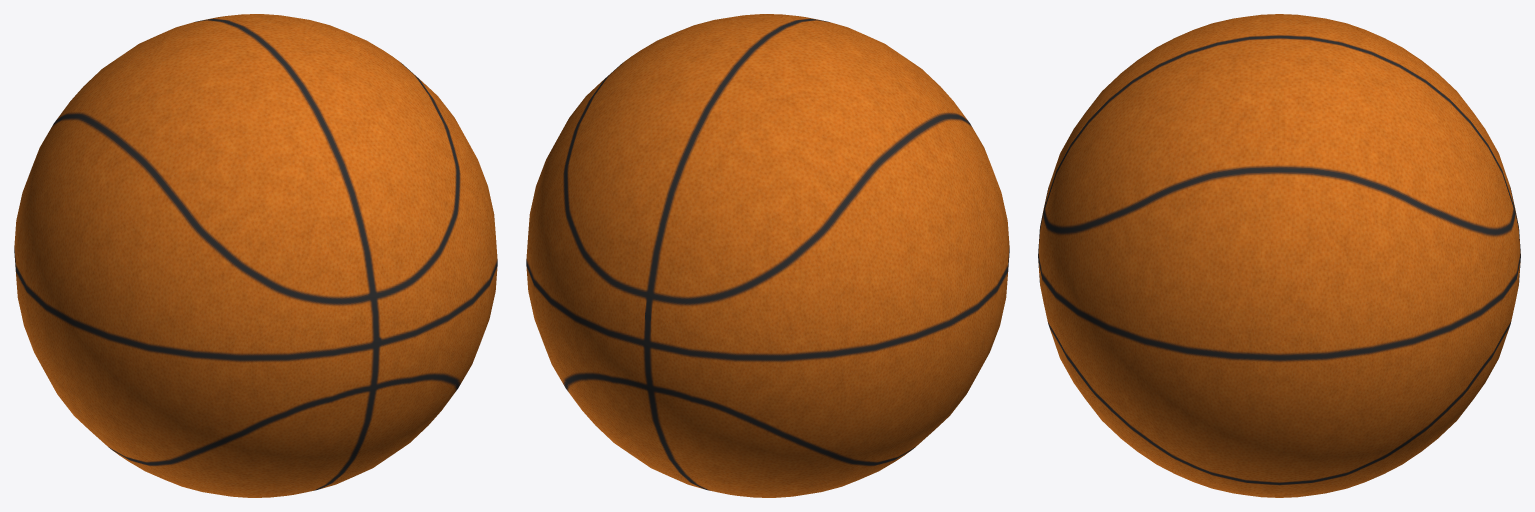
The model's file is Basekball (1).fbx.
3 renders of one model, left to right at view 1: azimuth 30°, elevation 25°; view 2: azimuth 150°, elevation 25°; view 3: azimuth 270°, elevation 25°, orthographic.
Visible parts, largest first — view 1: BasketBall_BasketBall_0; view 2: BasketBall_BasketBall_0; view 3: BasketBall_BasketBall_0.
Boxes of the visible parts, x1=… form: BasketBall_BasketBall_0: x1=14, y1=14, x2=497, y2=497; BasketBall_BasketBall_0: x1=526, y1=14, x2=1009, y2=497; BasketBall_BasketBall_0: x1=1038, y1=14, x2=1520, y2=497.
Bounding box in the file's own units: 23 × 22.96 × 22.93.
1 material, 1 textured.
